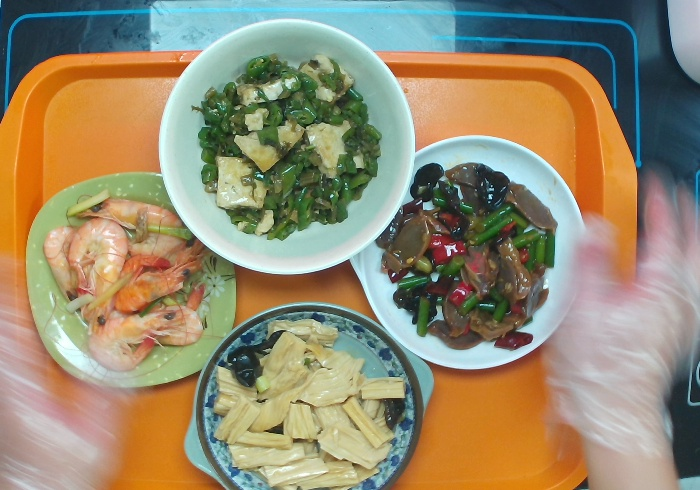NLDX-Bai_Se_Shuang_Er_Die: (348, 132, 592, 373)
NLDX-Bai_Se_Yuan_Wan: (155, 16, 417, 277)
NLDX-Lv_Hua_Fang_Die: (24, 169, 239, 390)
NLDX-Qing_Hua_Shuang_Er_Die: (181, 300, 435, 489)
